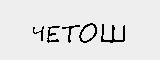Е: (47, 24, 60, 45)
О: (78, 22, 95, 45)
Т: (61, 22, 78, 46)
Ч: (30, 24, 46, 44)
Ш: (100, 22, 126, 43)
